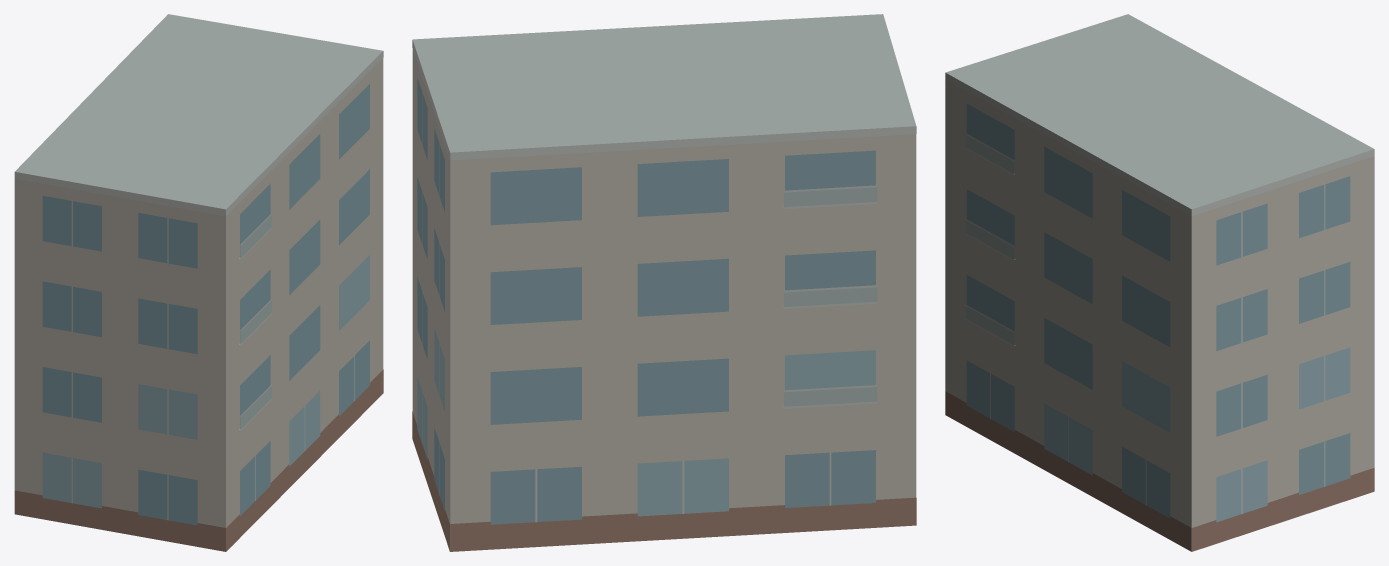
The model's file is survey-upis-32911436.glb.
3 renders of one model, left to right at view 1: azimuth 30°, elevation 25°; view 2: azimuth 150°, elevation 25°; view 3: azimuth 270°, elevation 25°, orthographic. The views are drawn at different scales.
Parts seen in each view (by area): view 1: survey-upis-32911436.tmp; view 2: survey-upis-32911436.tmp; view 3: survey-upis-32911436.tmp.
Boxes of the visible parts, x1=… form: survey-upis-32911436.tmp: x1=14, y1=14, x2=383, y2=551; survey-upis-32911436.tmp: x1=412, y1=14, x2=916, y2=551; survey-upis-32911436.tmp: x1=945, y1=14, x2=1374, y2=551.
Size of the model in its own units: 14.94 by 12.2 by 13.87.
